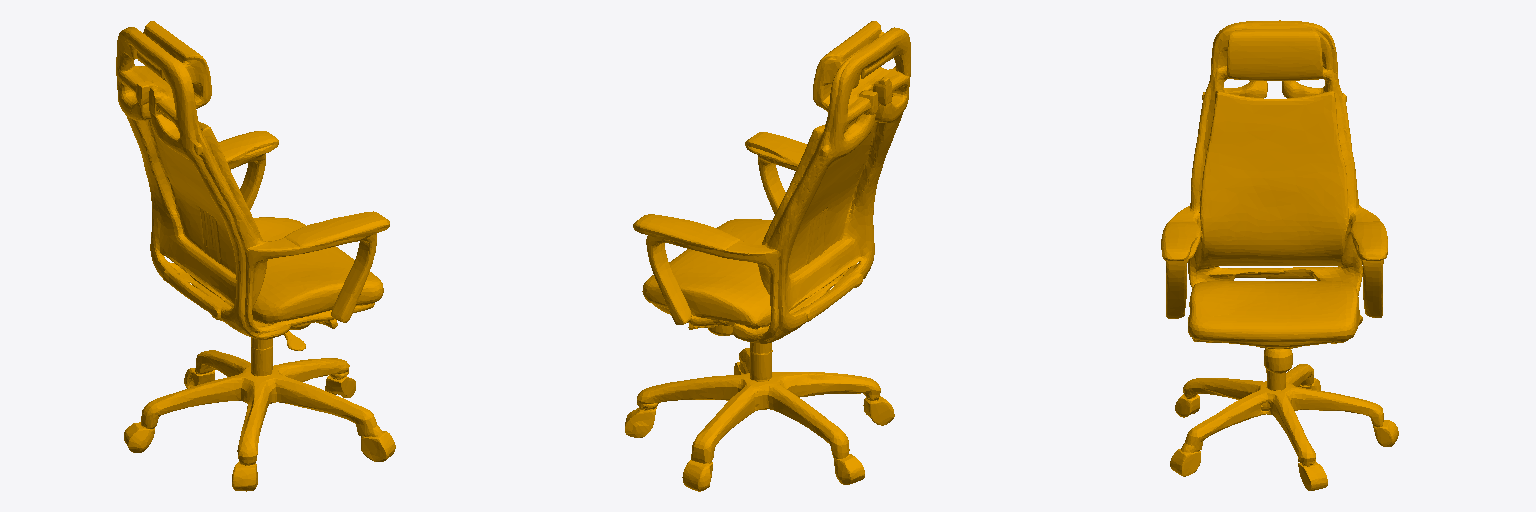
The robot description file, URDF, robot "office_chair_18":
<?xml version="1.0" ?>
<robot name="office_chair_18">
   <link name="office_chair_18">
      <visual>
         <origin xyz="0 0 0" rpy="1.5708 0.0 0.0"/>
         <geometry>
            <mesh filename="mesh/office_chair_18.obj" scale="1.0 1.0 1.0"/>
         </geometry>
      </visual>
      <collision>
         <origin xyz="0 0 0" rpy="1.5708 0.0 0.0"/>
         <geometry>
            <mesh filename="mesh/office_chair_18_collision.obj" scale="1.0 1.0 1.0"/>
         </geometry>
         <gazebo>
            <mu1>0.80</mu1>
            <mu2>0.60</mu2>
         </gazebo>
      </collision>
      <inertial>
         <mass value="15.0000"/>
         <origin xyz="0 0 0"/>
         <inertia ixx="1.0" ixy="0.0" ixz="0.0" iyy="1.0" iyz="0.0" izz="1.0"/>
      </inertial>
      <extra_info>
         <scale>1.200000</scale>
         <version>v0.1.5</version>
         <category>office_chair</category>
         <description>ergonomic office chair with adjustable headrest, armrests, and wheeled base</description>
         <min_height>1.1</min_height>
         <max_height>1.3</max_height>
         <real_height>1.2</real_height>
         <min_mass>12.0</min_mass>
         <max_mass>18.0</max_mass>
         <generate_time>20251021114737</generate_time>
         <gs_model>mesh/office_chair_18_gs.ply</gs_model>
      </extra_info>
   </link>
   <custom_data>
      <quality>
         <MeshGeoChecker>YES</MeshGeoChecker>
         <ImageSegChecker>YES</ImageSegChecker>
         <ImageAestheticChecker>4.966714262962341</ImageAestheticChecker>
         <overall>YES</overall>
      </quality>
   </custom_data>
</robot>

--- Facts derived from the render (not from the file) ---
Views: 3 orthographic renders of the robot side by side, from view 1: azimuth 30°, elevation 25°; view 2: azimuth 150°, elevation 25°; view 3: azimuth 270°, elevation 25°.
Model office_chair_18 with 1 links and 0 joints (none), rooted at office_chair_18, posed every joint at zero.
Links seen in each view (by area): view 1: office_chair_18; view 2: office_chair_18; view 3: office_chair_18.
Link boxes in pixels (bbox=[...]): office_chair_18: bbox=[116, 21, 395, 491]; office_chair_18: bbox=[625, 21, 910, 491]; office_chair_18: bbox=[1161, 20, 1398, 490].
Size in the robot's own frame: 0.6934 by 0.69 by 1.2 metres.
1 mesh visuals loaded from 1 distinct referenced files (1 OBJ).
